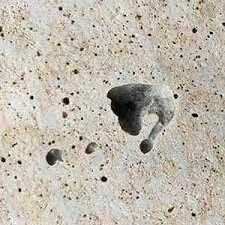Spalling: (1, 1, 225, 225), (106, 83, 177, 154)
